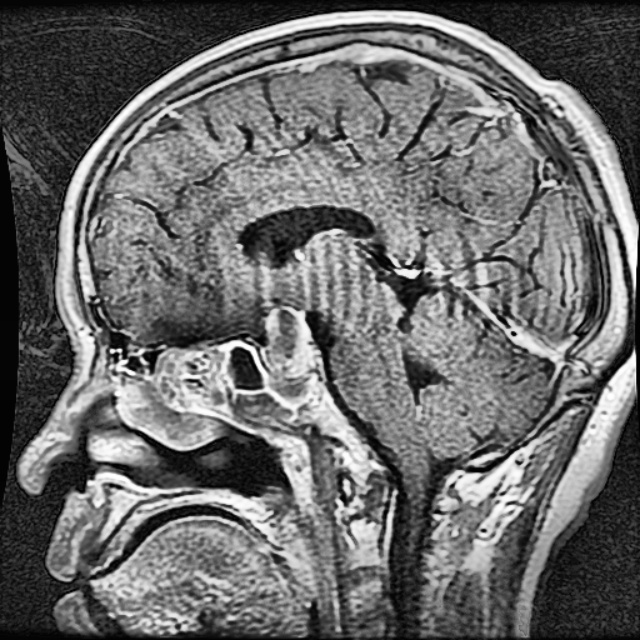Pituitary: (264, 303, 323, 408)
